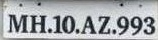character: (7, 14, 28, 34), (29, 14, 47, 33), (80, 15, 96, 35), (116, 15, 129, 35), (61, 15, 75, 33), (97, 15, 110, 34), (129, 16, 142, 35), (142, 16, 155, 35), (52, 15, 61, 33)
